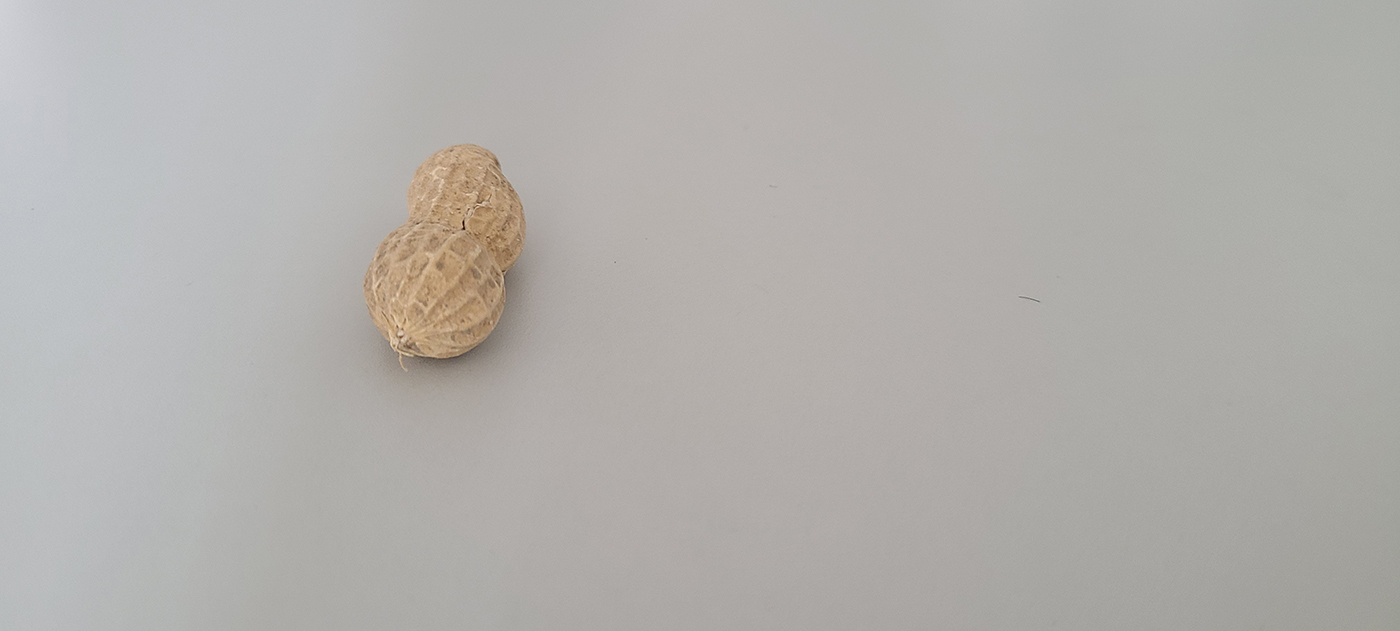h: (361, 142, 527, 361)
